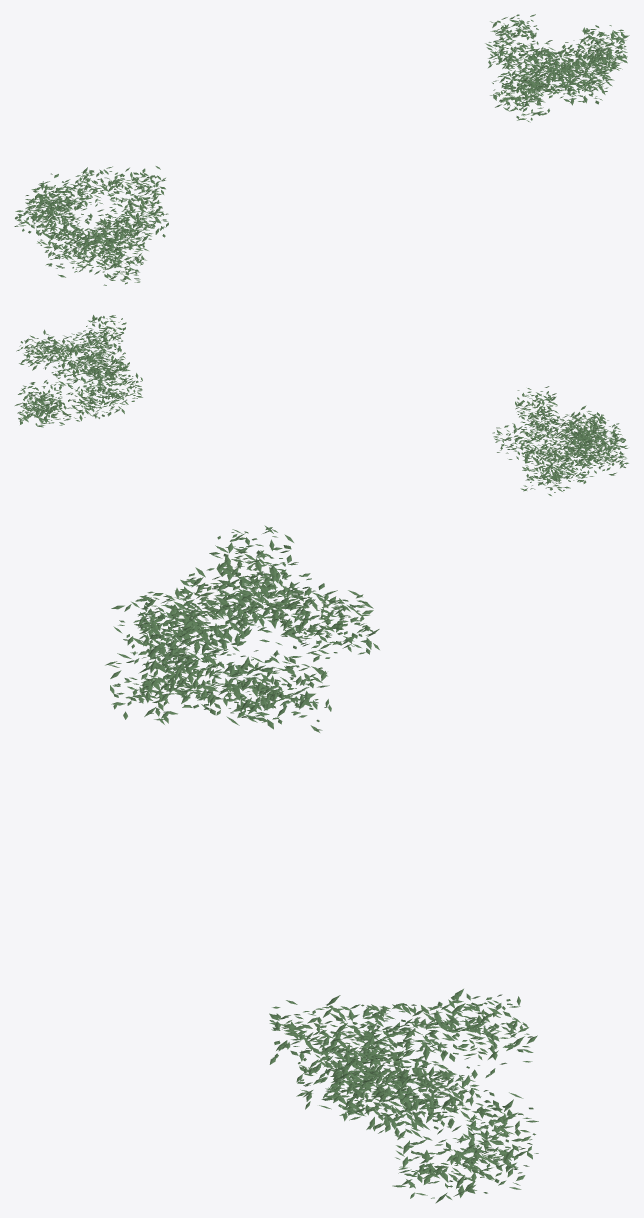
The model's file is xiyuan-vegetation-19-near.glb.
3 renders of one model, top to bottom at view 1: azimuth 30°, elevation 25°; view 2: azimuth 150°, elevation 25°; view 3: azimuth 270°, elevation 25°, orthographic. The views are drawn at different scales.
Parts seen in each view (by area): view 1: vegetation broadleaf leaves.001; view 2: vegetation broadleaf leaves.001; view 3: vegetation broadleaf leaves.001.
Boxes of the visible parts, x1,y1,x2,y2 form: vegetation broadleaf leaves.001: (14, 14, 629, 285); vegetation broadleaf leaves.001: (15, 315, 628, 495); vegetation broadleaf leaves.001: (105, 525, 538, 1203).
Size of the model in its own units: 36.45 by 5.31 by 12.38.
